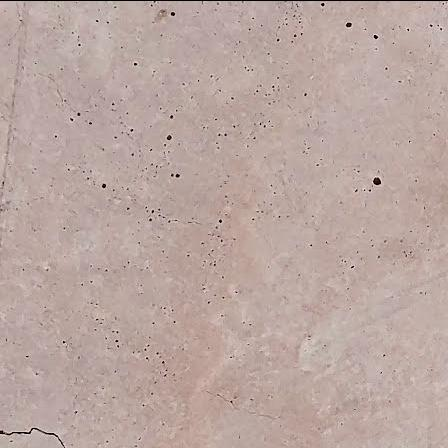crack: (198, 382, 282, 431), (0, 417, 71, 448)
